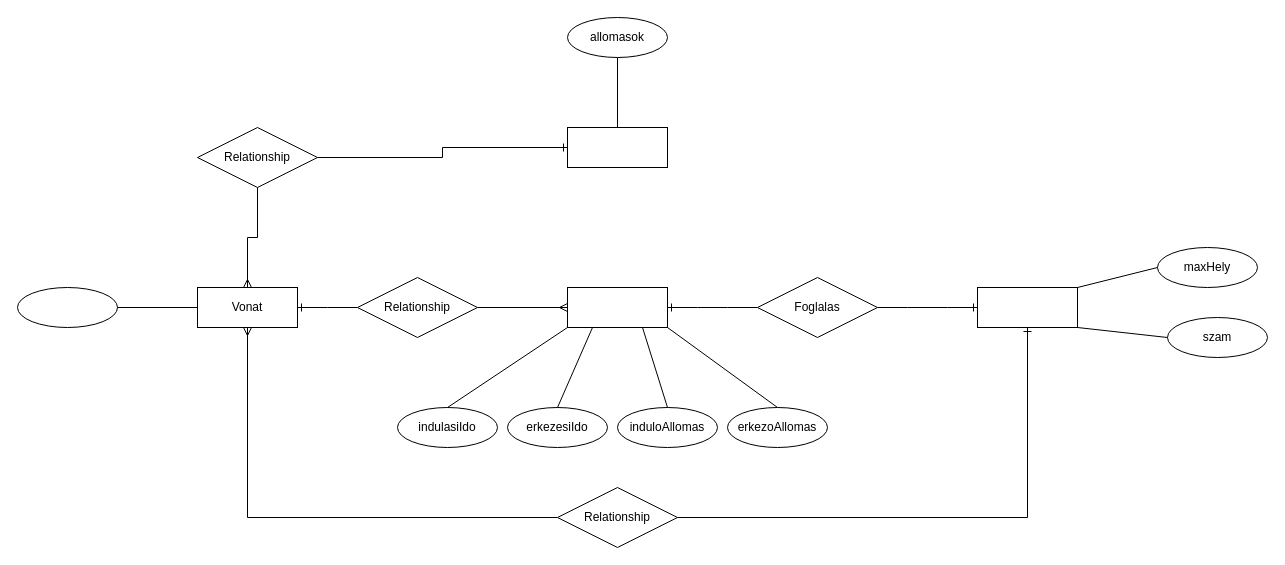
Some shapes in this 1285 by 565 pixel diagram are drawn without their labels. Here are the shapes that lost their labels. From the top down, the centre of each, then its label:
point (617, 147): MAV
point (67, 307): nev
point (617, 307): Járat
point (1027, 307): Kocsi
